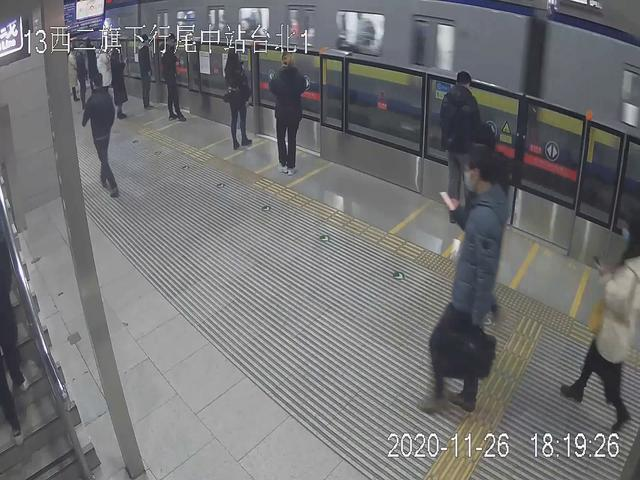person: (421, 143, 505, 413), (574, 209, 640, 434), (435, 65, 482, 235), (265, 45, 310, 177), (82, 70, 124, 197), (221, 43, 256, 152), (160, 40, 186, 121), (135, 36, 156, 109)
